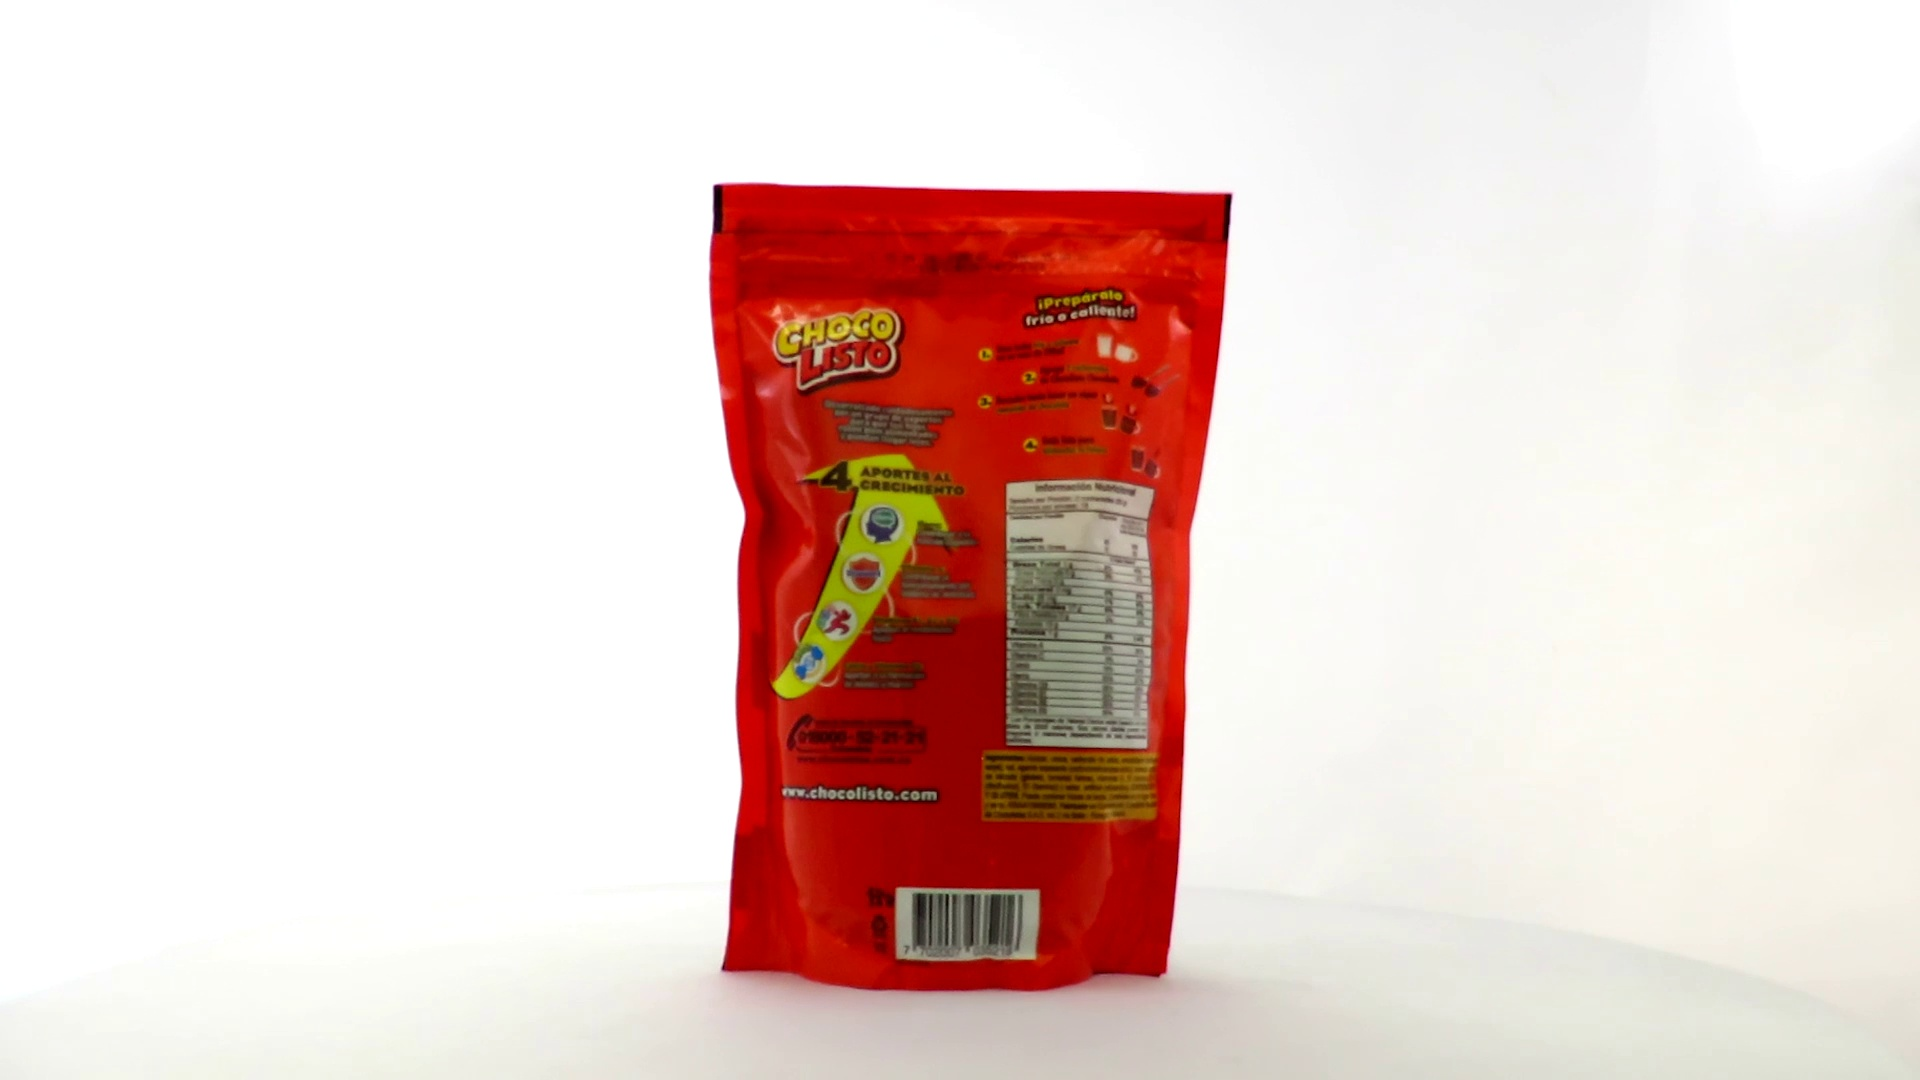COL0170103DYP36000: (704, 177, 1238, 998)
